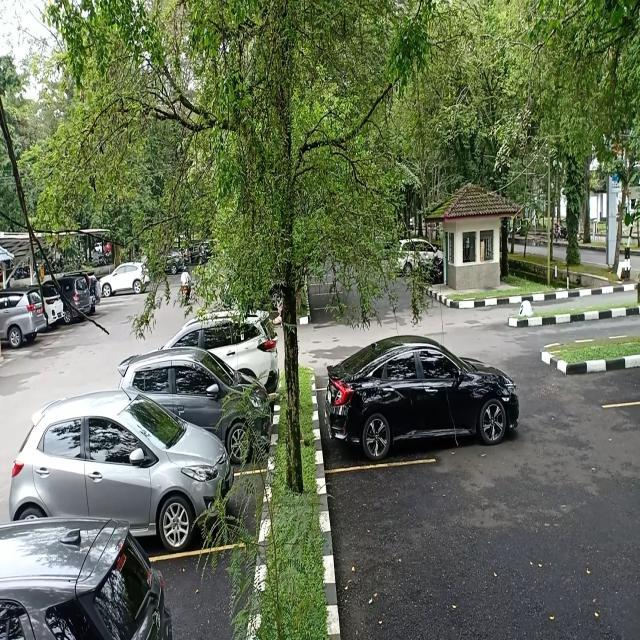occupied: (316, 378, 522, 466), (116, 448, 261, 558), (192, 368, 269, 479)
